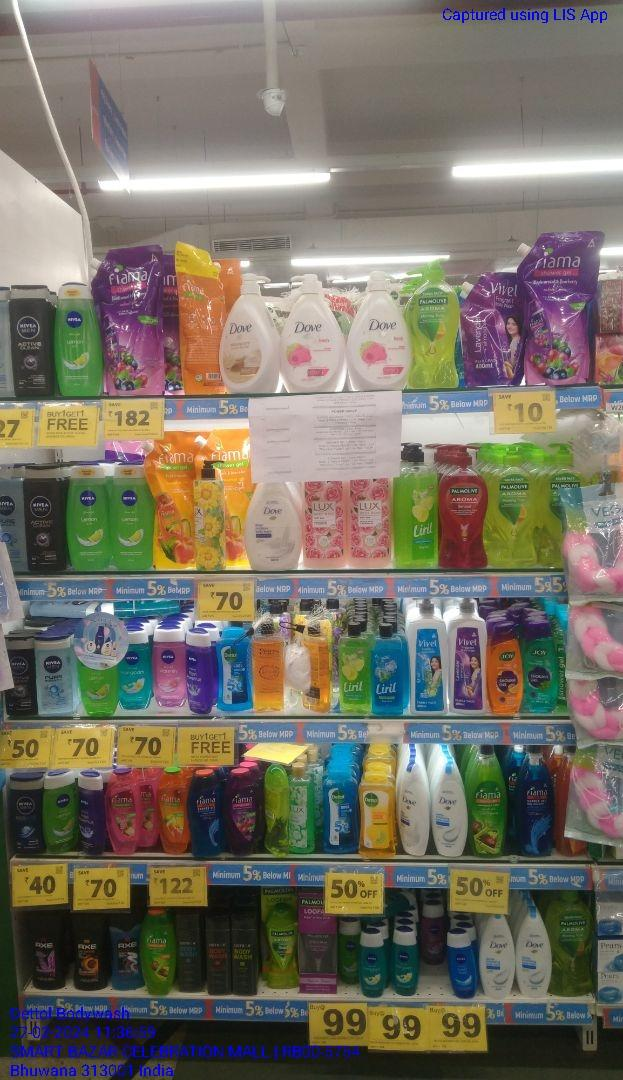Dettol_Bodywash_Cool: (215, 628, 252, 713), (324, 767, 358, 852)
Dettol_Bodywash_Refresh: (360, 766, 394, 859)
Dove_Deep_Moisture_Body_Wash_250ML: (397, 763, 429, 858)
Dove_Gentle_Exfoliating_Body_Wash_250ML: (432, 763, 468, 859), (516, 908, 549, 1000), (477, 914, 513, 998)
Fiama_Shower_Gel_Lemongrass_and_Jojoba_250ML: (139, 909, 175, 997)
Fiama_Shower_Gel_Patchouli_and_Macadamia_250ML: (108, 768, 139, 856)
Fiama_Shower_Gel_Peach_and_Avocado_250ML: (155, 767, 186, 852)
Joy_Shower_Gel_Mandarin_and_Lemongrass_250ML: (486, 623, 521, 715)
Joy_Shower_Gel_Mint_and_Eucalyptus_250ML: (523, 620, 559, 715)
Liril_Cooling_Mint_Body_Wash_250ML: (372, 624, 407, 718)
Liril_Lime_and_Tea_Tree_Oil_Body_Wash_250ML: (338, 623, 369, 715)
Lux_Body_Wash_Skin_Detox_Freesia_Scent_and_Alove_Vera_245ML: (289, 762, 313, 854)
Nivea_Shower_Gel_Frangipani_and_Oil_250ML: (118, 625, 151, 712), (389, 926, 418, 996), (358, 932, 387, 998)
Nivea_Shower_Gel_Fresh_Powerfruit_250ML: (77, 771, 102, 858), (185, 631, 207, 712)
Nivea_Shower_Gel_Lemon_and_Oil_250ML: (55, 282, 102, 400), (108, 458, 151, 573), (68, 460, 106, 573), (43, 771, 75, 855)
Nivea_Shower_Gel_Waterlily_and_Oil_250ML: (152, 627, 184, 709)
Palmolive_Aroma_Morning_Tonic_Shower_Gel_250ML: (265, 901, 299, 993)
